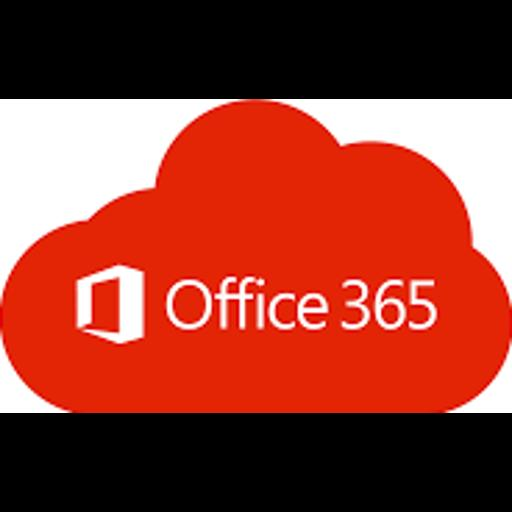Office365: (0, 99, 512, 413)
